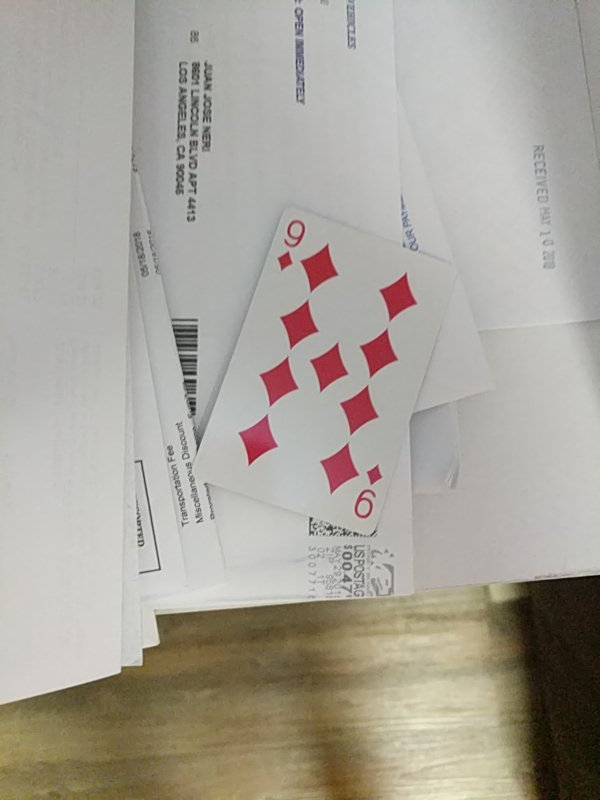Diamonds: (192, 207, 460, 536)
